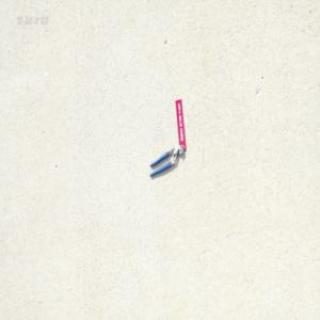LuggageTagtrack_idkeyframe: (174, 96, 186, 148)
Pliertrack_idkeyframe: (148, 143, 183, 176)
